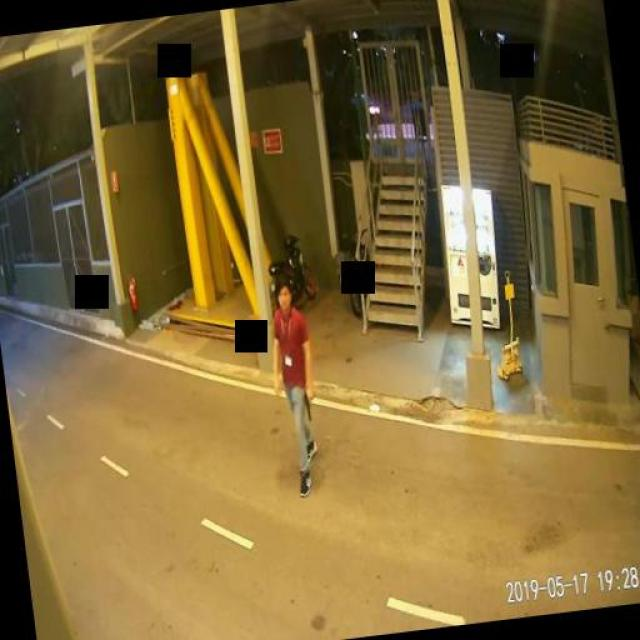gun: (302, 385, 316, 420)
